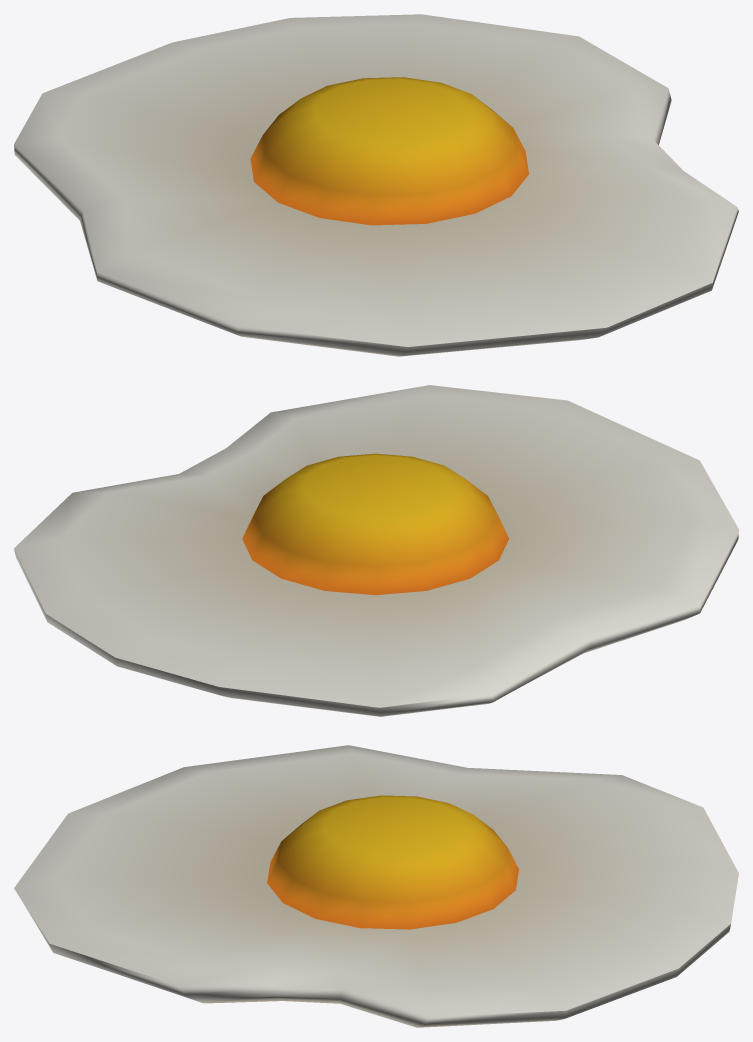
Rendered from consumables-meatsdairy-friedegg_v3.glb.
The picture shows the model from 3 angles, top to bottom: view 1: azimuth 30°, elevation 25°; view 2: azimuth 150°, elevation 25°; view 3: azimuth 270°, elevation 25°; orthographic projection. The views are drawn at different scales.
Visible parts, largest first — view 1: FriedEgg_v3; view 2: FriedEgg_v3; view 3: FriedEgg_v3.
Boxes of the visible parts, box(x1,y1,x2,y2) form: FriedEgg_v3: box(14, 14, 738, 356); FriedEgg_v3: box(14, 385, 738, 716); FriedEgg_v3: box(14, 745, 738, 1027).
Size of the model in its own units: 0.1142 by 0.016 by 0.1287.
